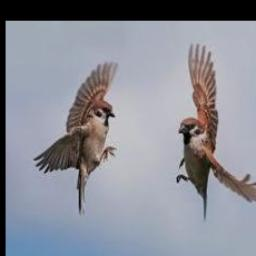Sparrow: (175, 43, 256, 220), (32, 61, 118, 216)
